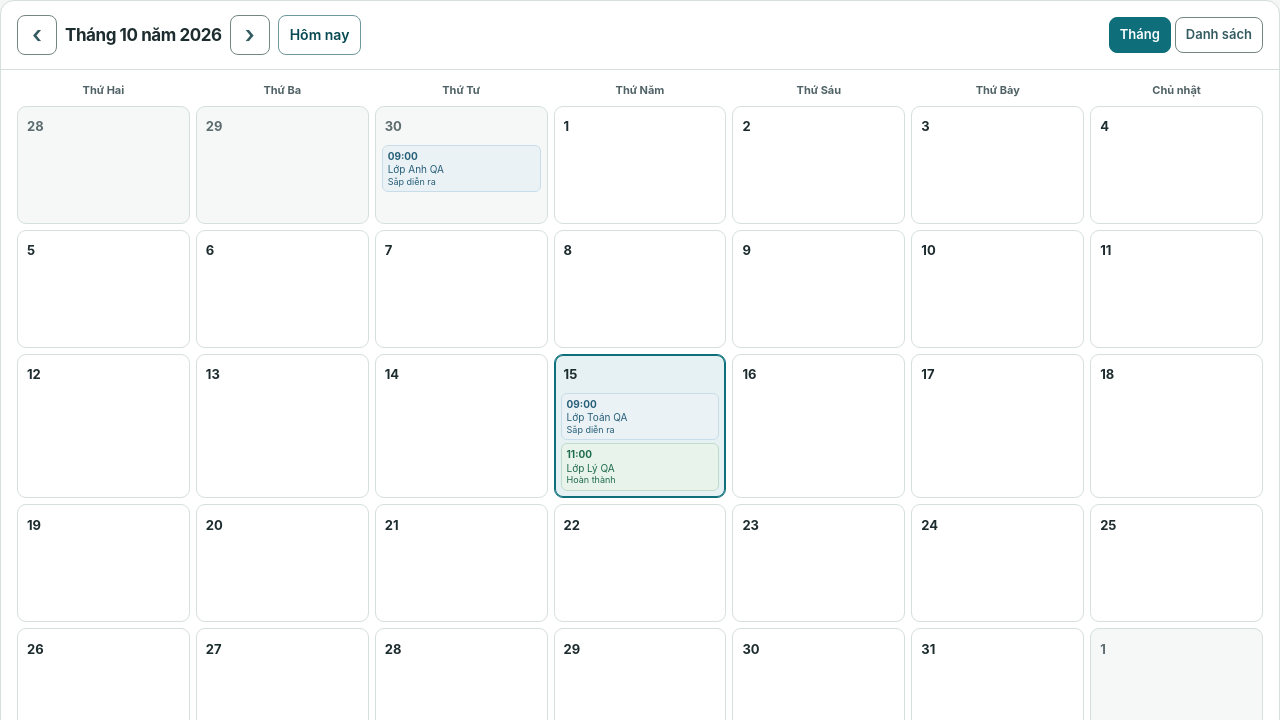
Test: SessionMonthCalendar › switches to a date-sorted list limited to the visible month
The width and height of the screenshot is (1280, 720).
Click the button "Danh sách": (1219, 35) [1175,17,1263,53]
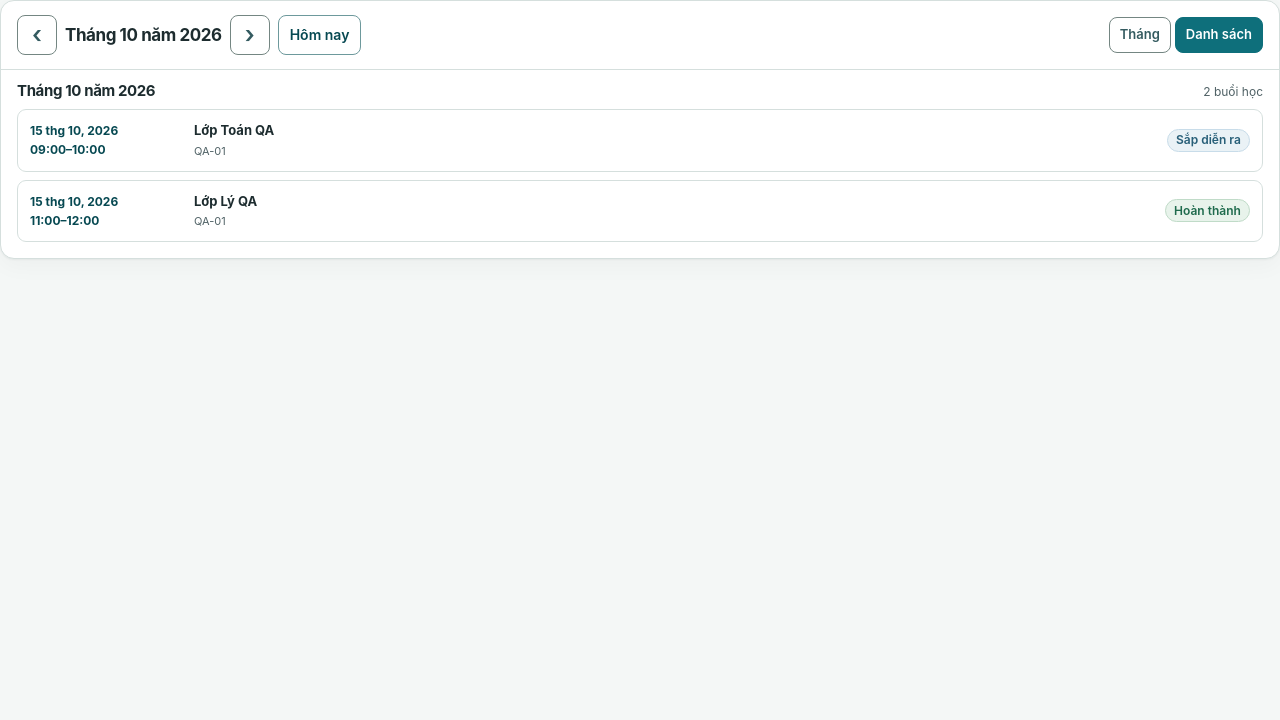
Now the text "Lớp Anh QA" is gone
